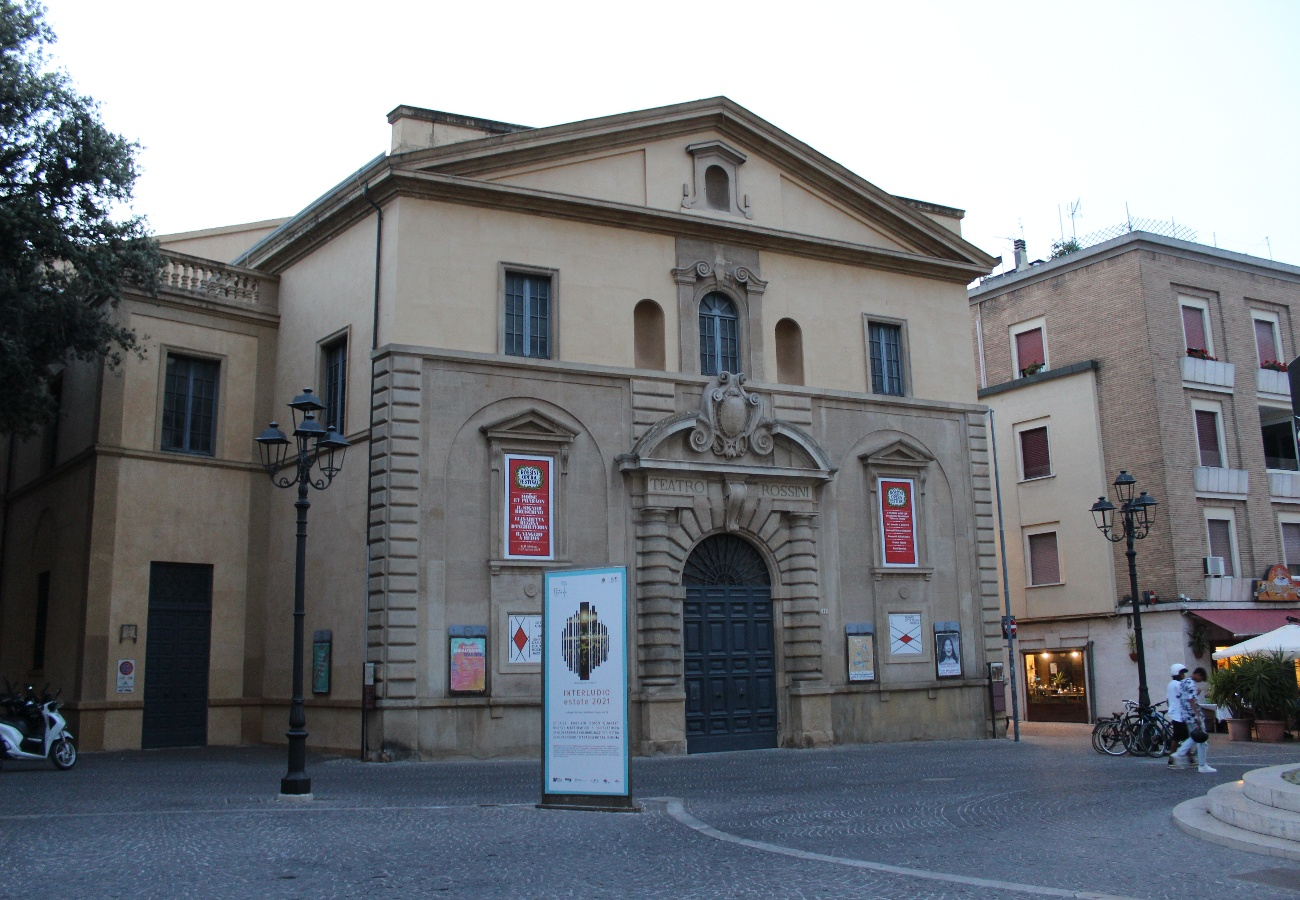Teatro Rossini: (397, 94, 1005, 749)
